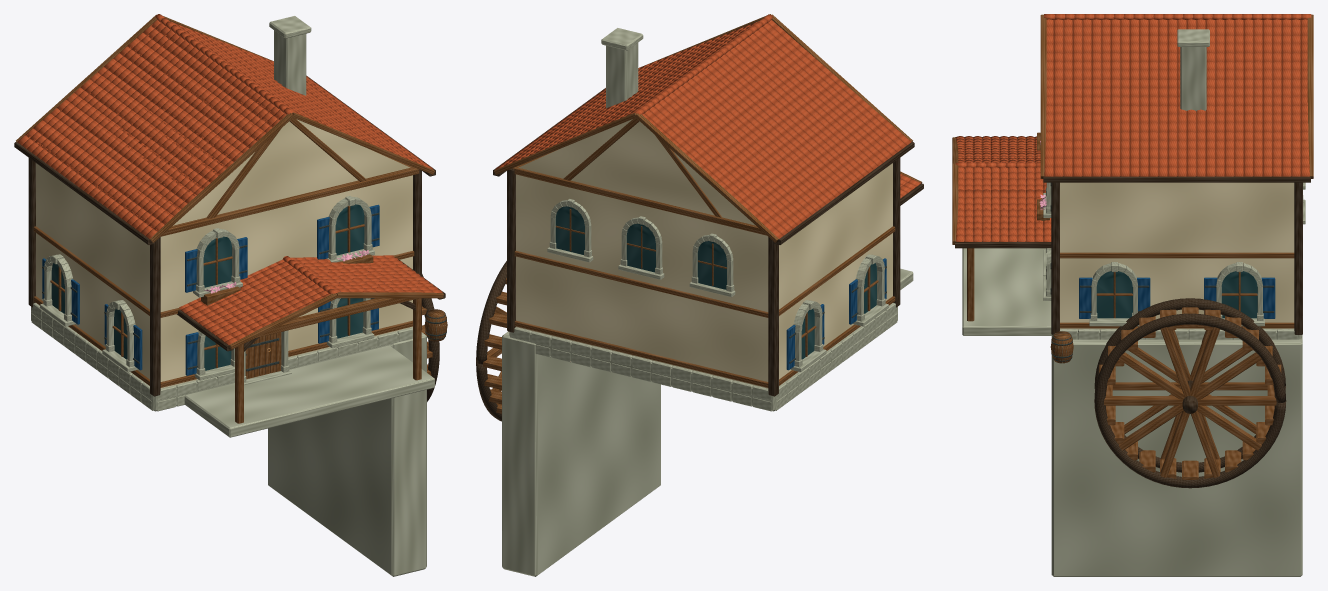
File: stream_watermill.glb
The picture shows the model from 3 angles, left to right: view 1: azimuth 30°, elevation 25°; view 2: azimuth 150°, elevation 25°; view 3: azimuth 270°, elevation 25°; orthographic projection.
Parts seen in each view (by area): view 1: stream_watermill.003; view 2: stream_watermill.003; view 3: stream_watermill.003.
Boxes of the visible parts, x1,y1,x2,y2 form: stream_watermill.003: (14,14,447,576); stream_watermill.003: (476,14,923,576); stream_watermill.003: (952,14,1313,576).
Bounding box in the file's own units: 11.52 × 17.14 × 11.
Materials: 1 (1 with a texture image).
